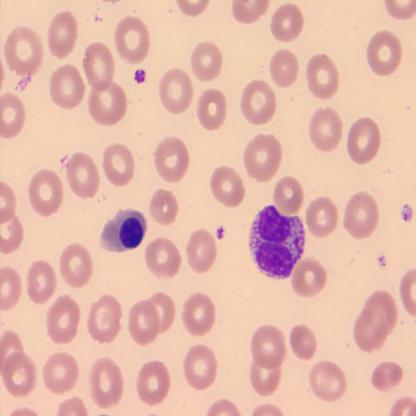NRC: (97, 206, 148, 254)
